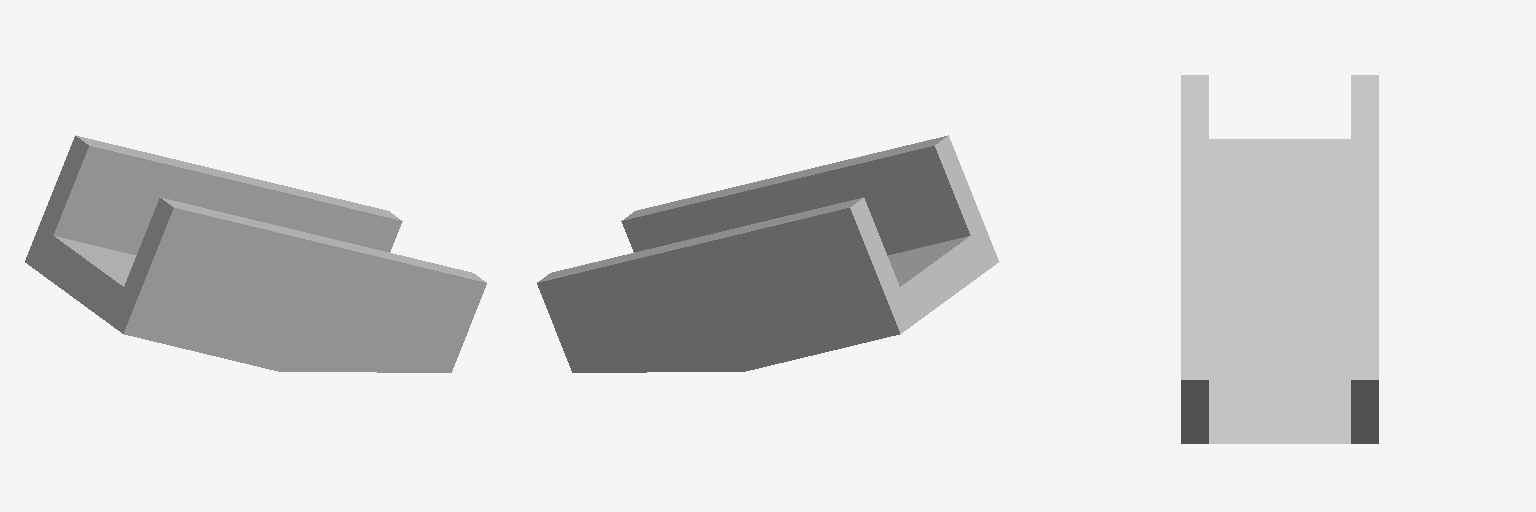
Rendered from 20 Deg.obj.
3 views of the same model, side by side, from view 1: azimuth 30°, elevation 25°; view 2: azimuth 150°, elevation 25°; view 3: azimuth 270°, elevation 25° (orthographic).
Visible parts, largest first — view 1: Cube; view 2: Cube; view 3: Cube.
Boxes of the visible parts, x1,y1,x2,y2 form: Cube: [25, 135, 486, 372]; Cube: [537, 135, 998, 372]; Cube: [1181, 75, 1378, 443].
Bounding box in the file's own units: 4.26 × 2.61 × 2.